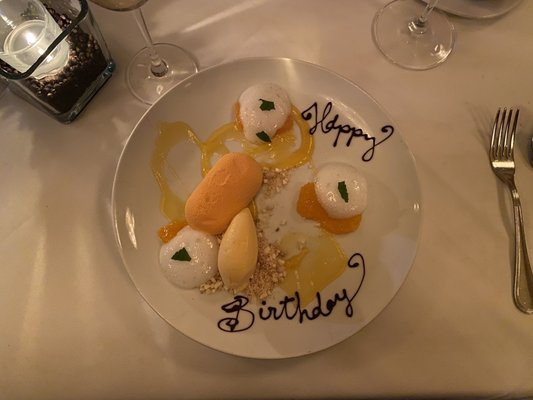burger: (489, 106, 533, 316)
